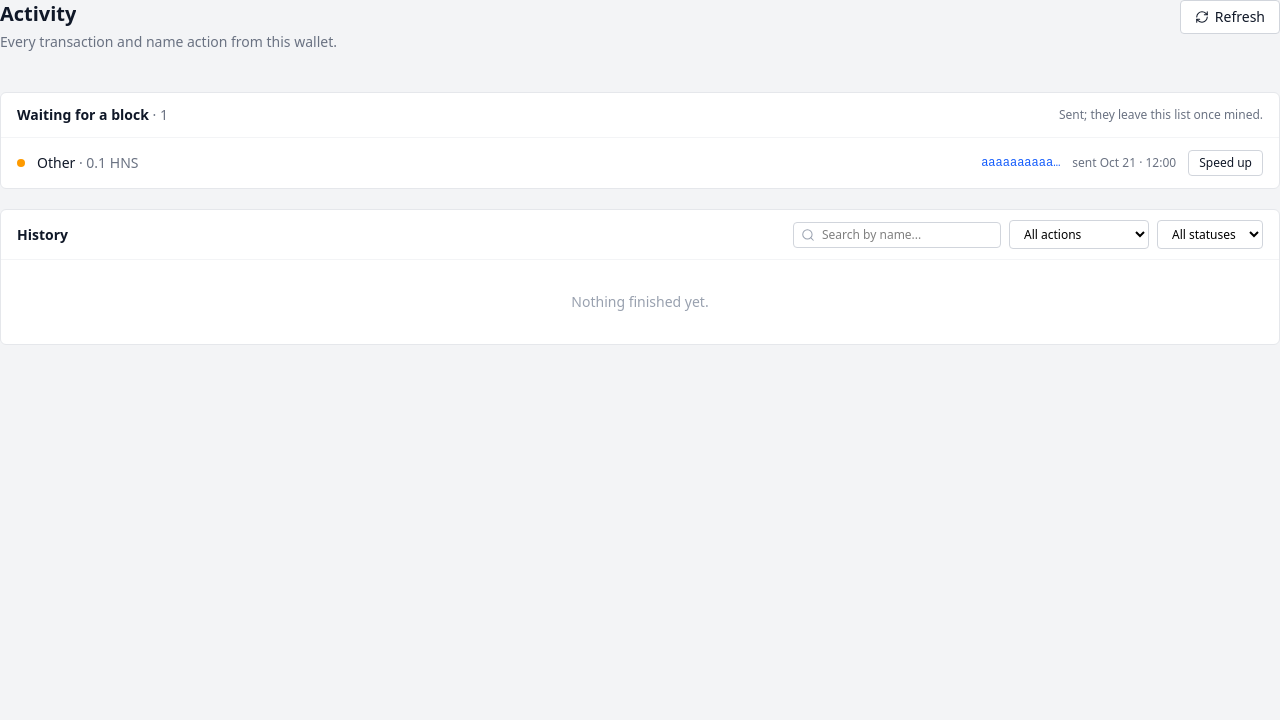
Scenario: the Speed up form (R11, R16) › shows the parent, the rates, the child's fee, the change left and the deadline
This screenshot has width=1280, height=720.
Click the button with test id "speed-up-button": (1226, 163) [1188,150,1263,176]
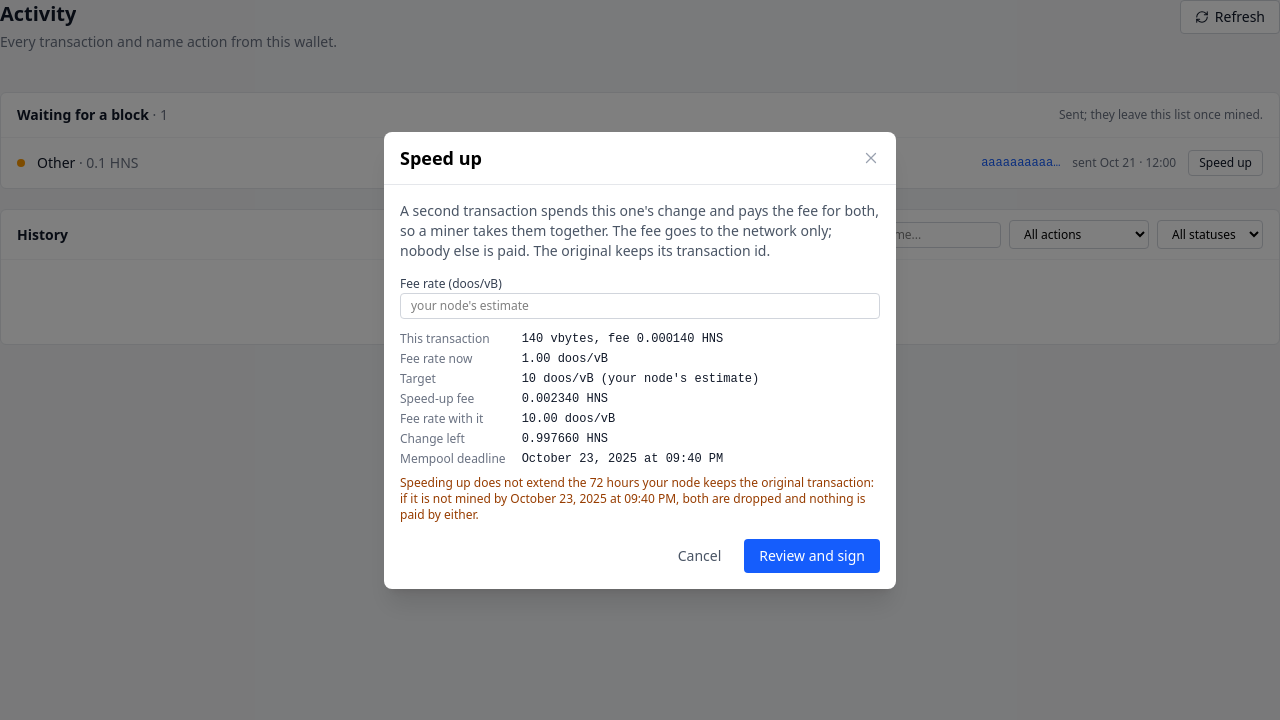
Check: the element with test id "speed-up-numbers" shows "140 vbytes, fee 0.000140 HNS", box [522,332,723,346]
Check: the element with test id "speed-up-dialog" shows "The fee goes to the network only; nobody else is paid.", box [400,200,880,572]
Check: the element with test id "speed-up-dialog" shows "The original keeps its transaction id.", box [526,240,770,260]
